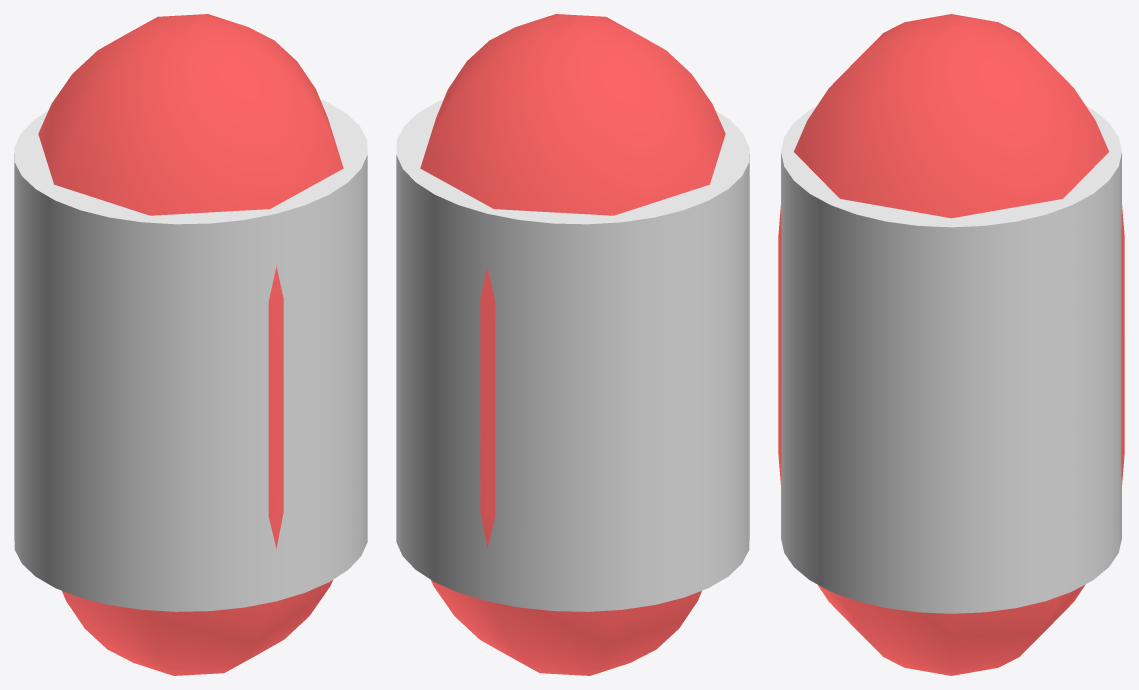
Rendered from dreak.glb.
The picture shows the model from 3 angles, left to right: view 1: azimuth 30°, elevation 25°; view 2: azimuth 150°, elevation 25°; view 3: azimuth 270°, elevation 25°; orthographic projection.
Parts seen in each view (by area): view 1: Cylinder, Capsule; view 2: Cylinder, Capsule; view 3: Cylinder, Capsule.
Part boxes in pixels (x1=…): Cylinder: x1=14, y1=99, x2=367, y2=611; Capsule: x1=38, y1=14, x2=343, y2=675; Cylinder: x1=396, y1=99, x2=749, y2=611; Capsule: x1=420, y1=14, x2=725, y2=675; Cylinder: x1=781, y1=106, x2=1121, y2=613; Capsule: x1=778, y1=14, x2=1124, y2=675.
Size of the model in its own units: 0.4316 by 0.8499 by 0.4183.
